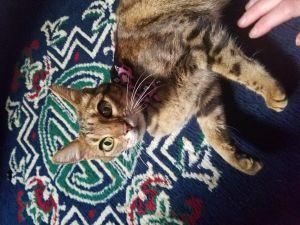bengal: (43, 78, 151, 175)
